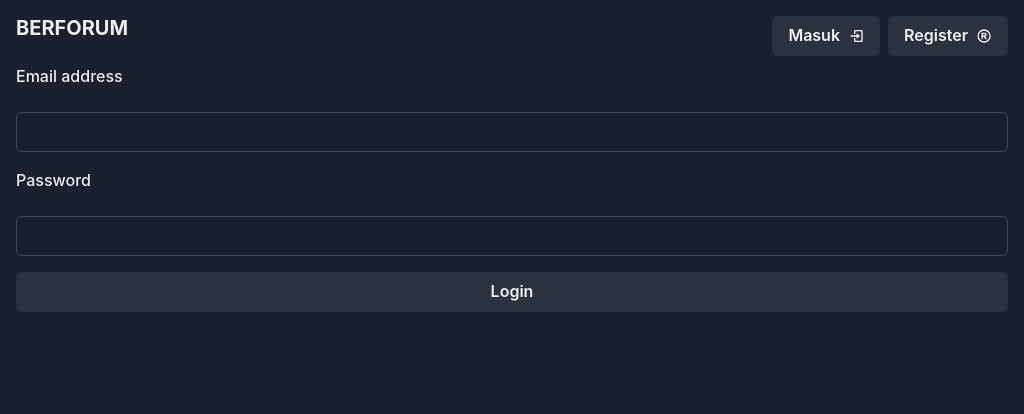
Test: Login Scenario › Input should have error
The width and height of the screenshot is (1024, 414).
Click the button "Login" at (512, 292), box [16,272,1008,312]
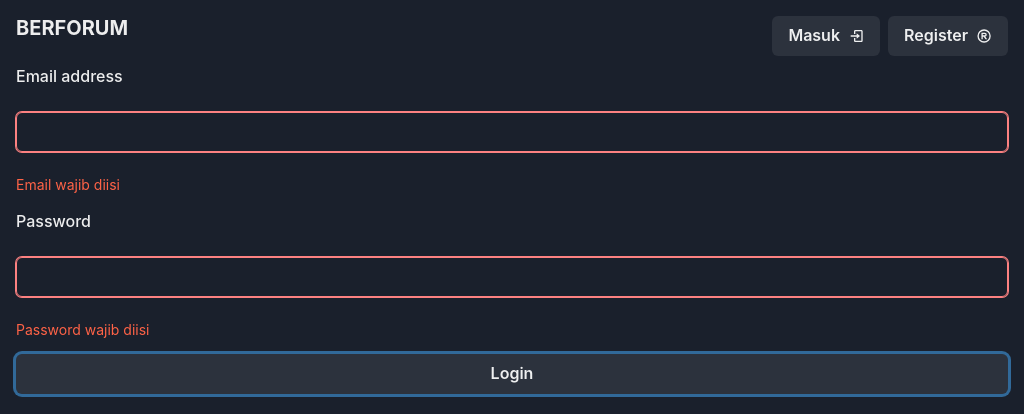
Expected: the text "Email wajib diisi" is shown, [16,176,120,193]
Expected: the text "Password wajib diisi" is shown, [16,321,150,338]
